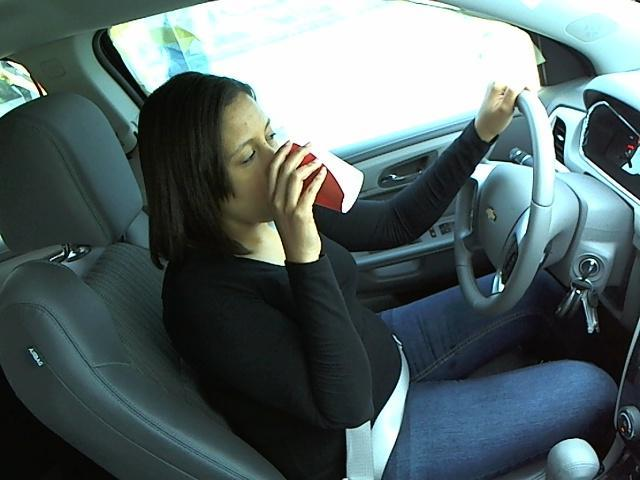Drinking: (198, 91, 364, 250)
